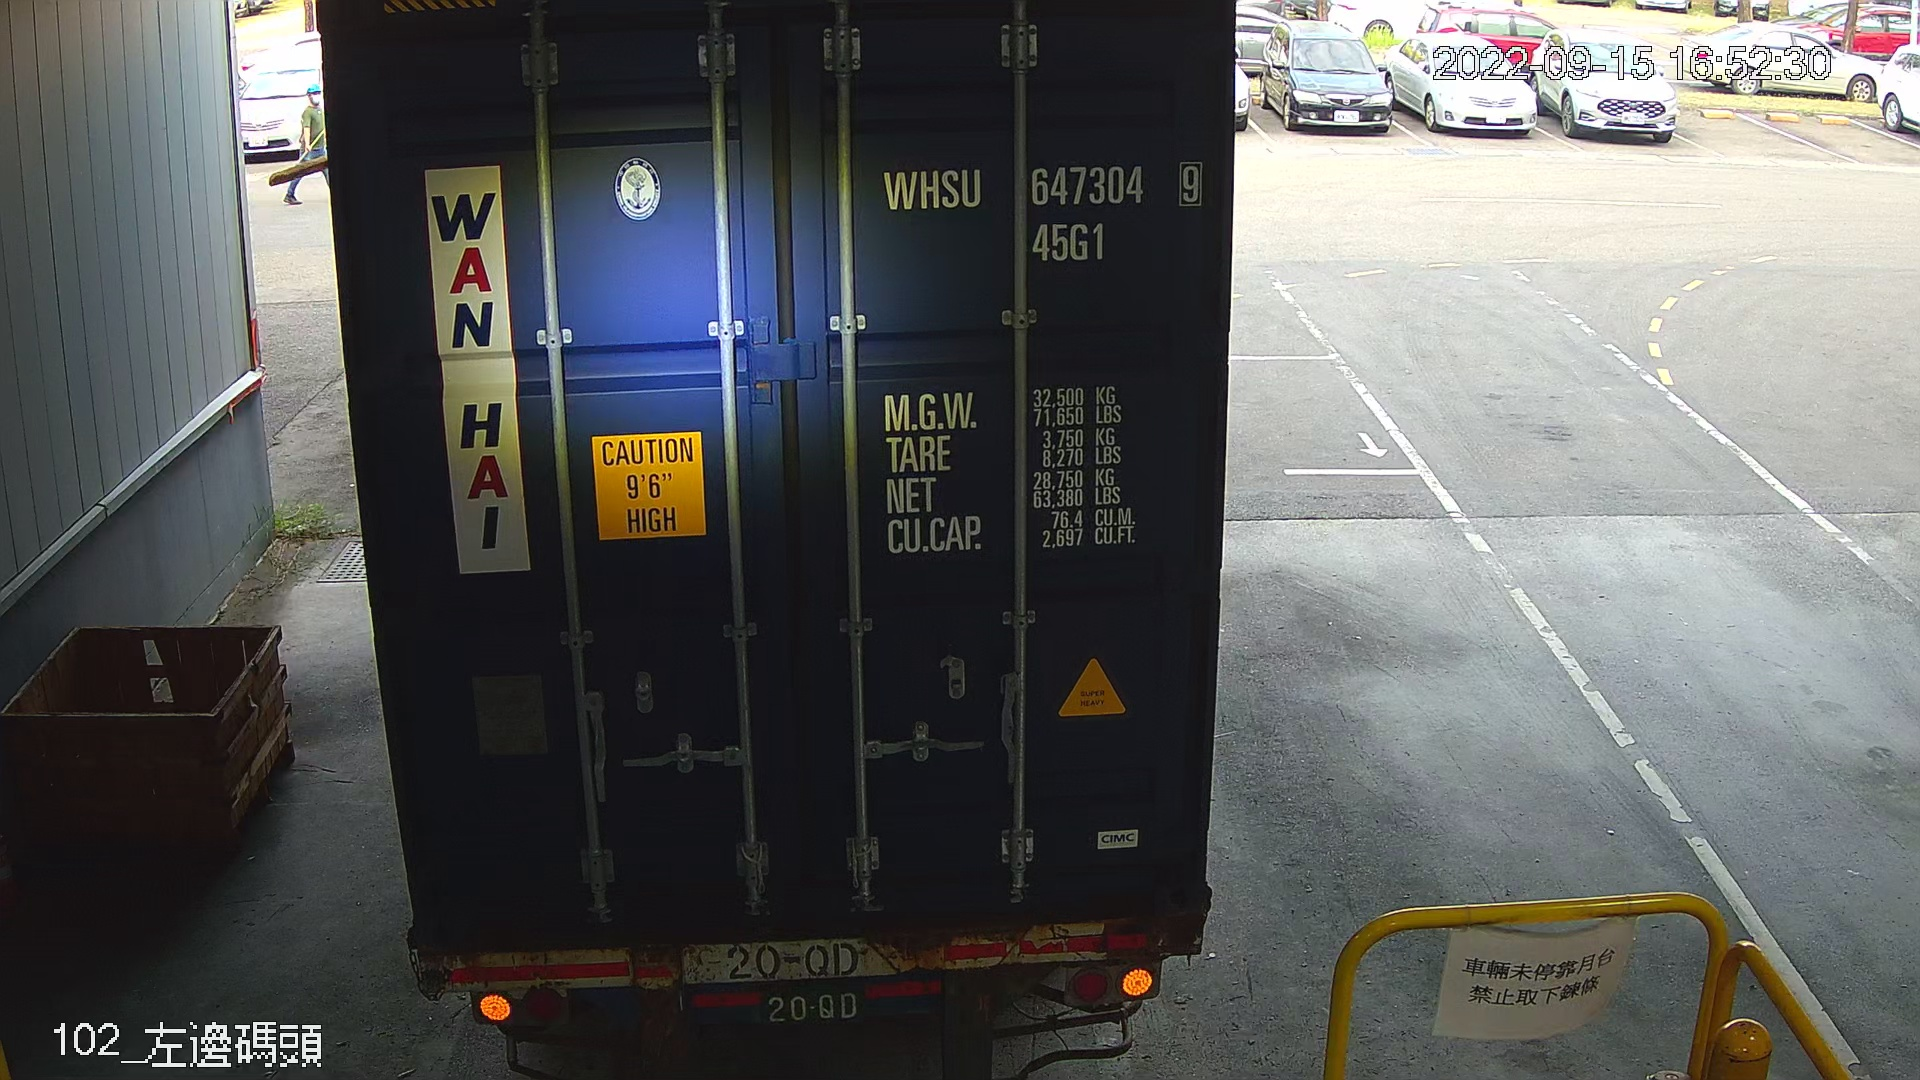container: (869, 152, 1212, 269)
